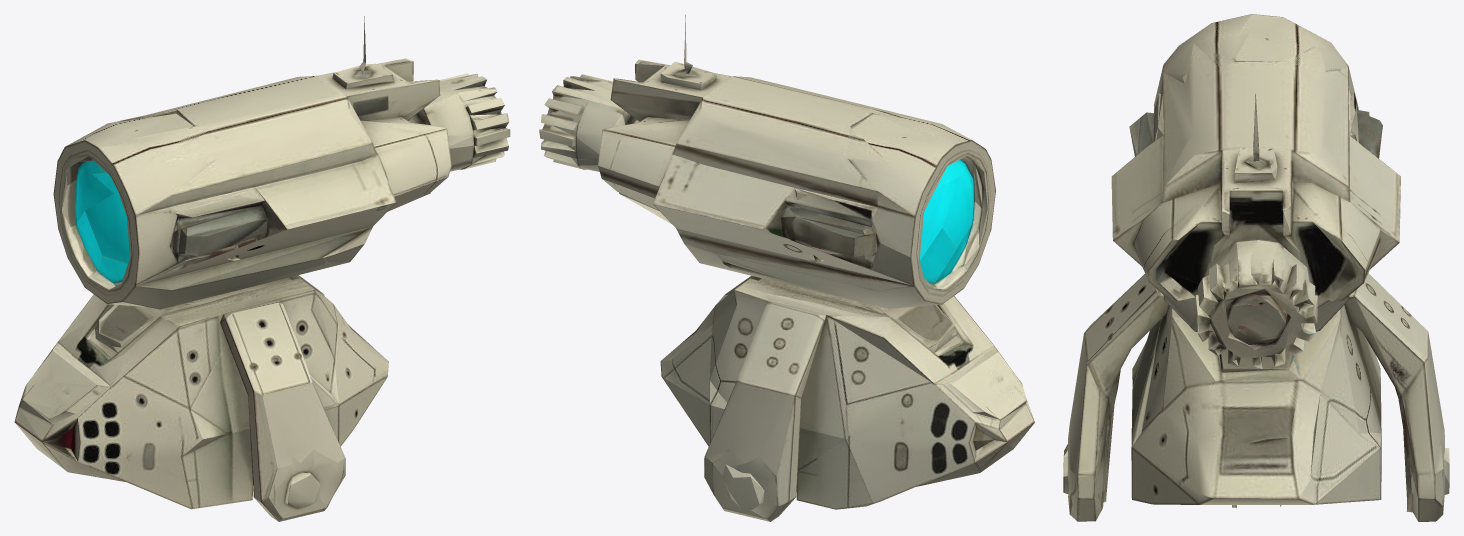
File: module-laser.glb
3 renders of one model, left to right at view 1: azimuth 30°, elevation 25°; view 2: azimuth 150°, elevation 25°; view 3: azimuth 270°, elevation 25°, orthographic. The views are drawn at different scales.
Bounding box in the file's own units: 1.89 × 1.63 × 1.14.
Materials: 1 (1 with a texture image).
